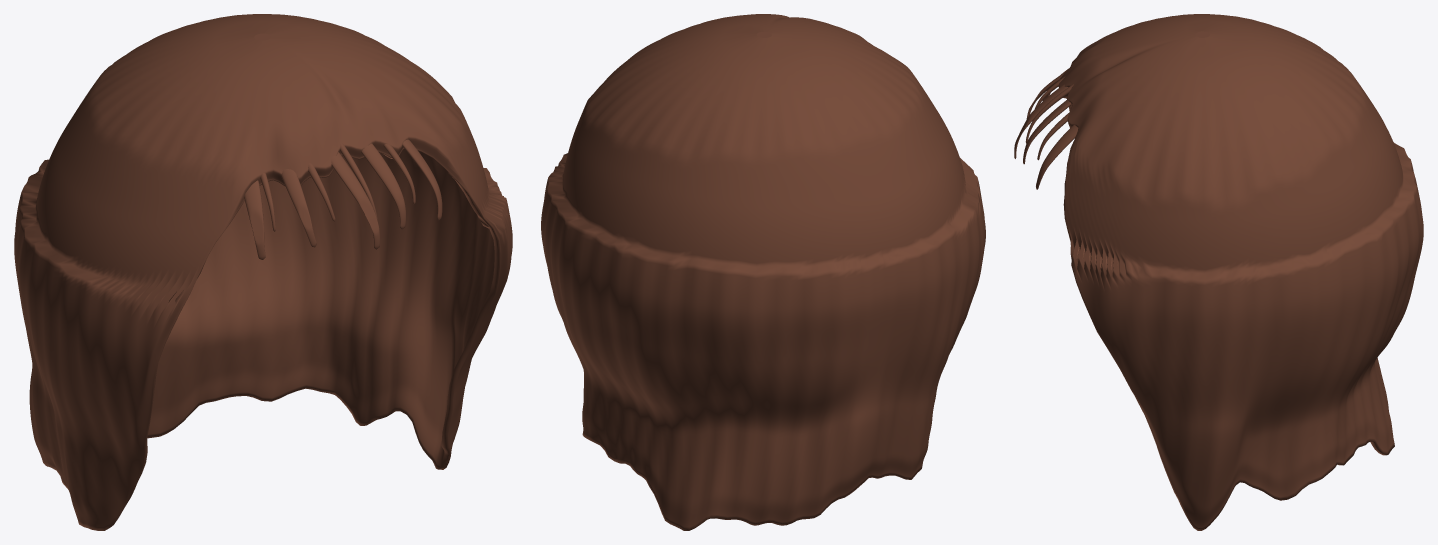
The model's file is side-sweep-beanie.glb.
3 renders of one model, left to right at view 1: azimuth 30°, elevation 25°; view 2: azimuth 150°, elevation 25°; view 3: azimuth 270°, elevation 25°, orthographic. The views are drawn at different scales.
Parts seen in each view (by area): view 1: Hair / layered lob, Fringe / arched wisp 05, Fringe / arched wisp 07, Fringe / arched wisp 01, Fringe / arched wisp 03, Fringe / arched wisp 09; view 2: Hair / layered lob; view 3: Hair / layered lob, Fringe / arched wisp 09.
Part boxes in pixels (x1,y1,x2,y2): Hair / layered lob: (14, 14, 512, 530); Fringe / arched wisp 05: (331, 152, 379, 249); Fringe / arched wisp 07: (361, 143, 405, 229); Fringe / arched wisp 01: (244, 180, 265, 259); Fringe / arched wisp 03: (281, 169, 316, 247); Fringe / arched wisp 09: (402, 139, 442, 220); Hair / layered lob: (541, 14, 985, 530); Hair / layered lob: (1058, 14, 1423, 530); Fringe / arched wisp 09: (1036, 125, 1078, 189).
Size of the model in its own units: 0.8388 by 0.8786 by 0.7759.
